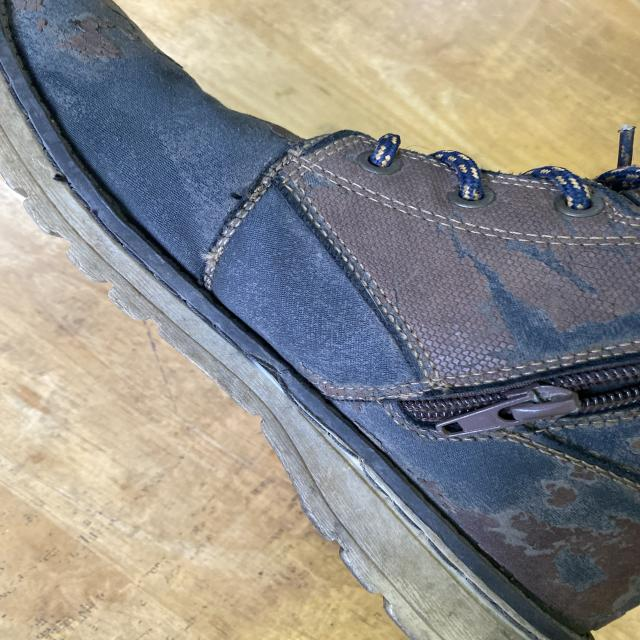broken: (210, 175, 270, 222), (188, 238, 232, 274)
